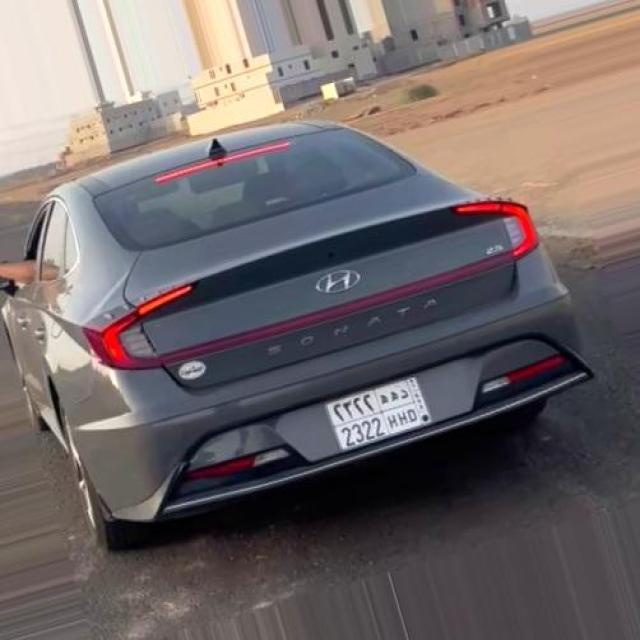Car-plate: (320, 359, 450, 460)
